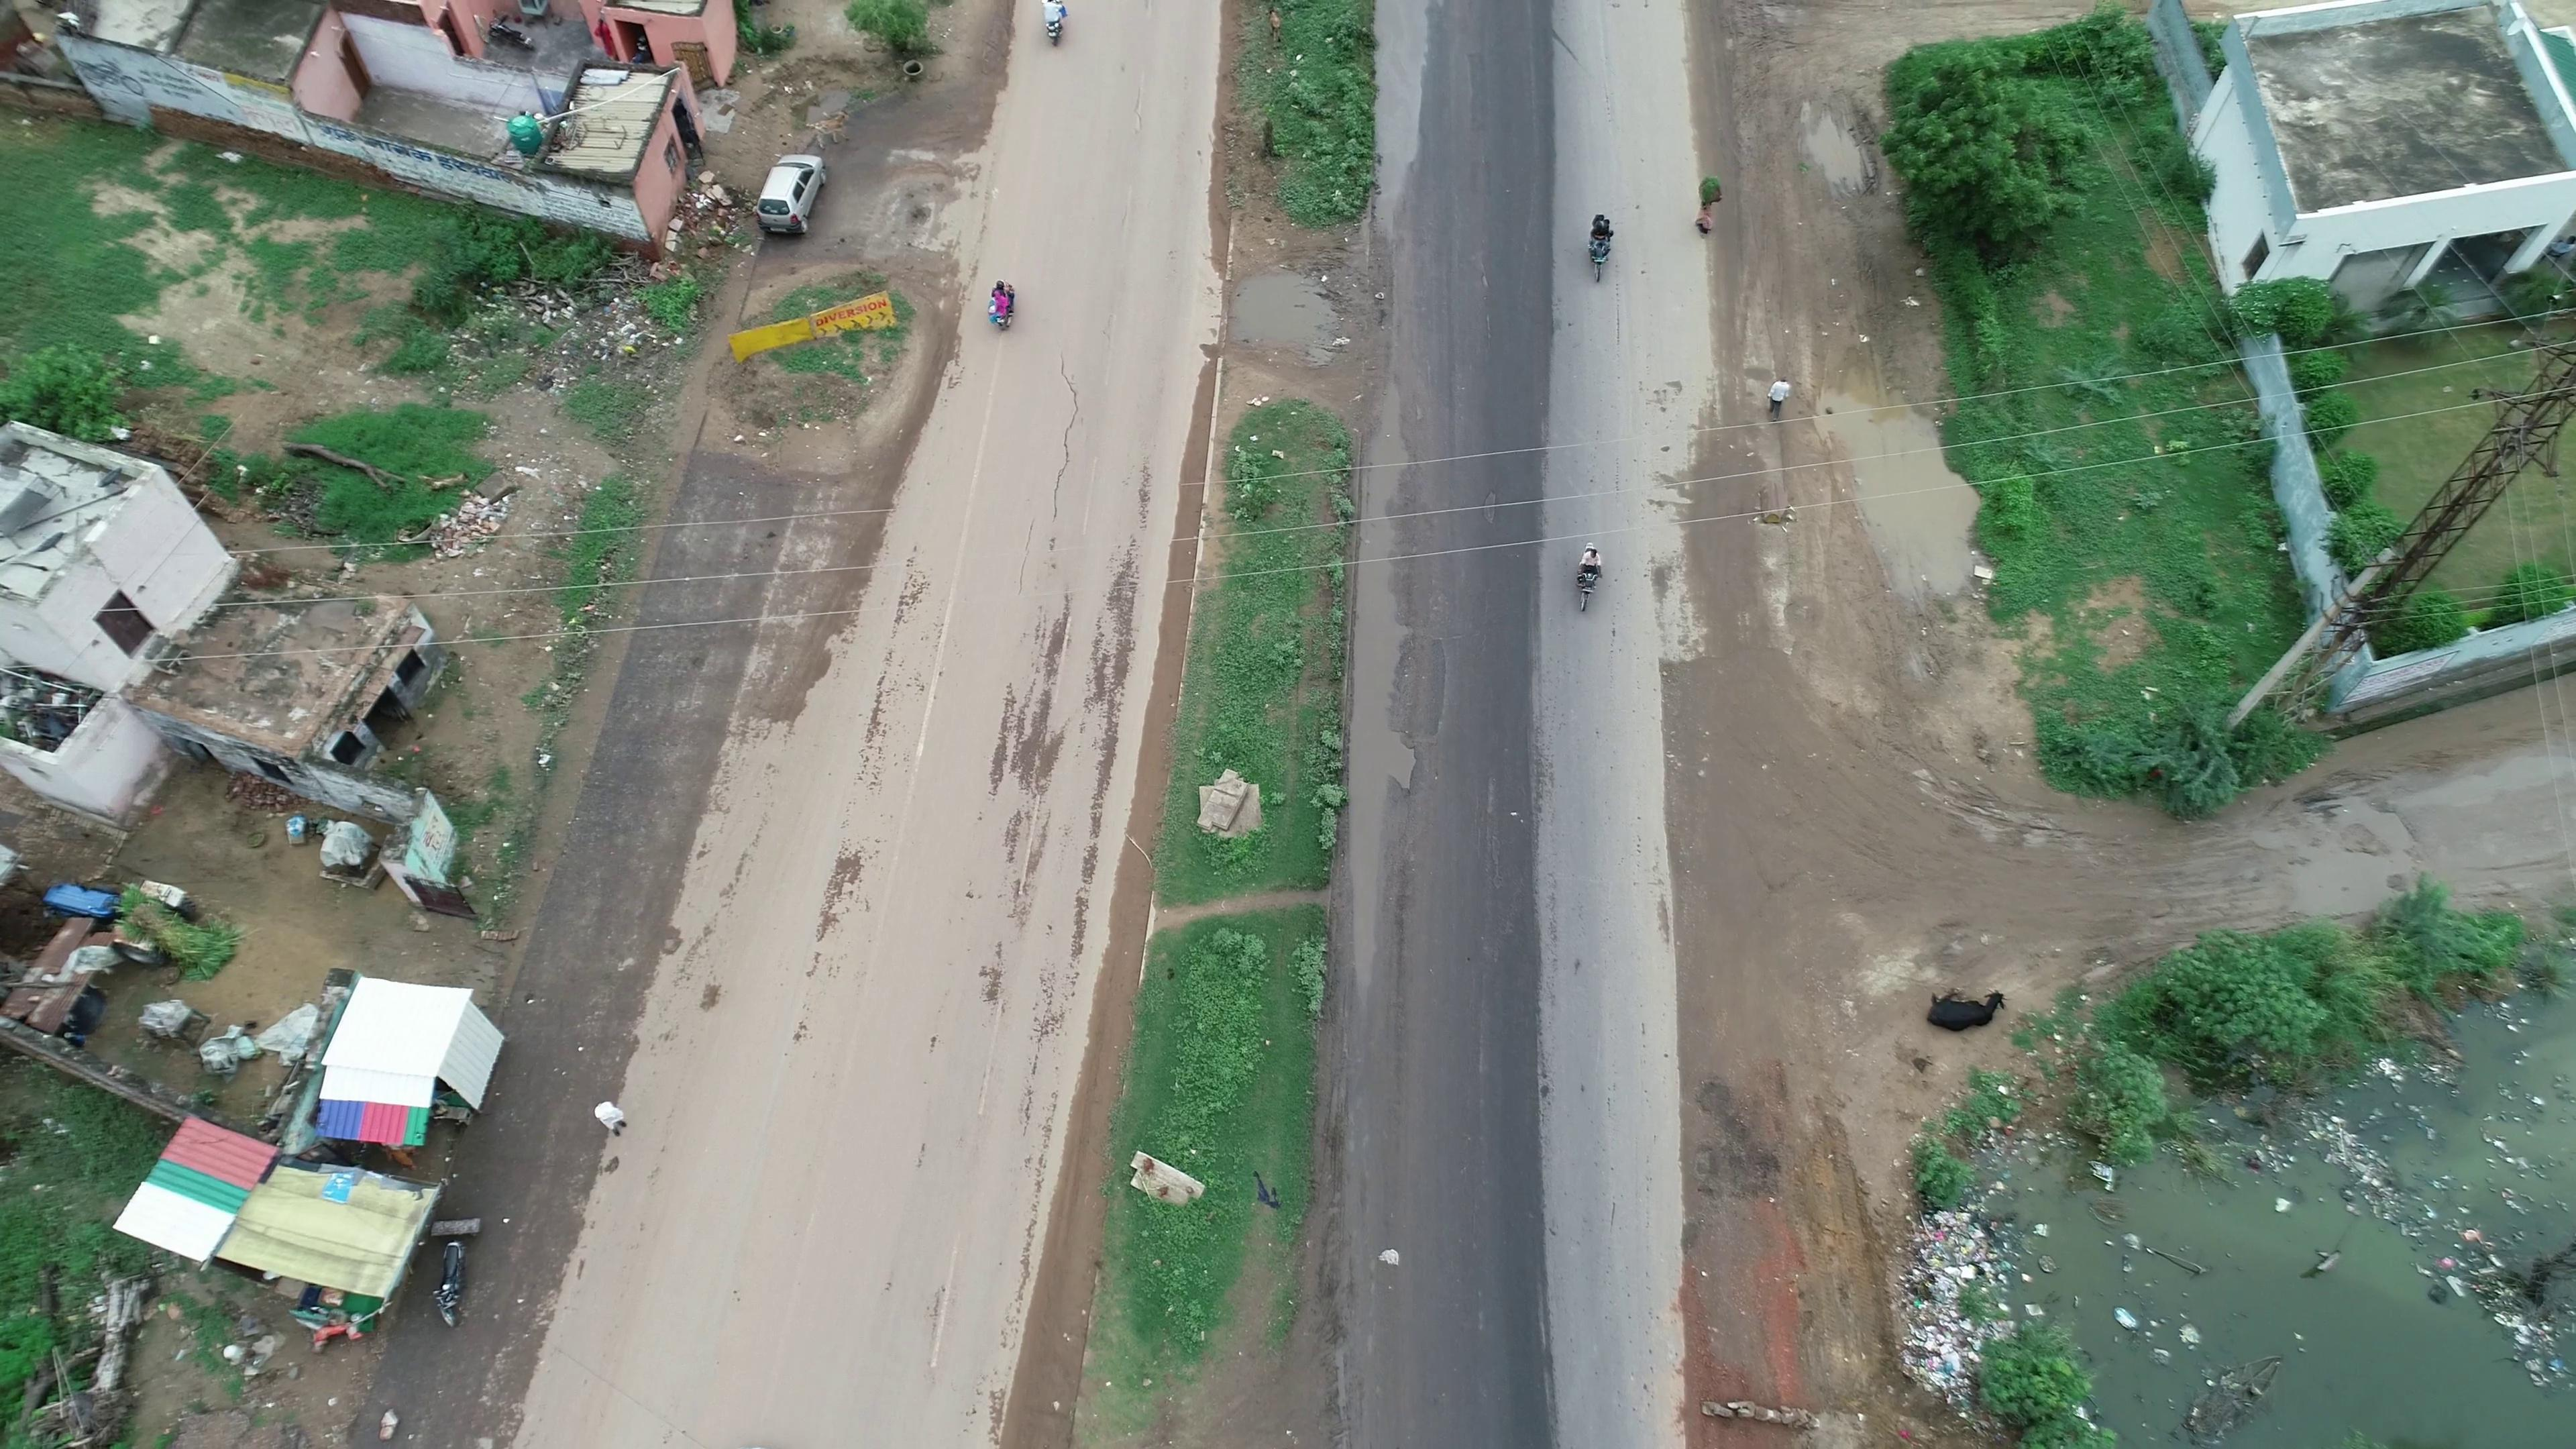Longitudinal_cracks: (1031, 340, 1086, 563)
